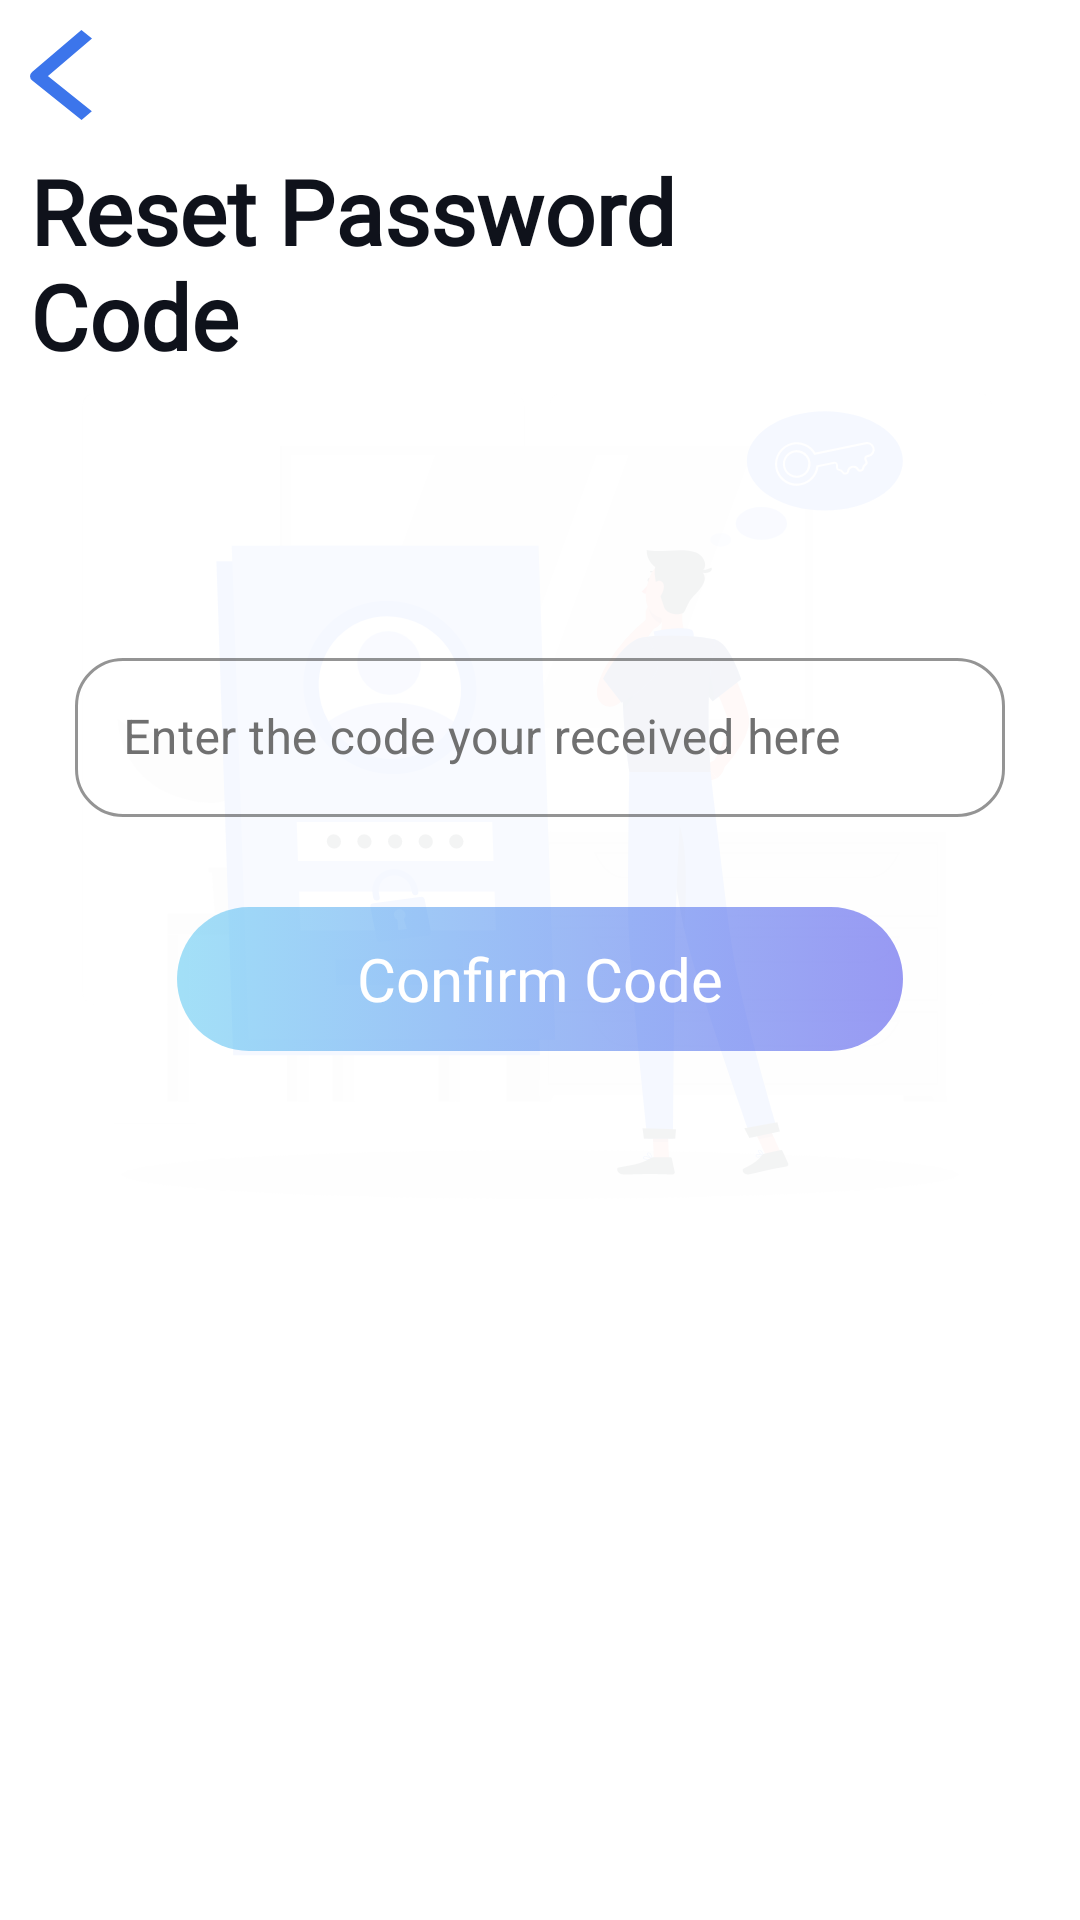

Locate icon controls on the screen. Image size 1080 x 1920, boxes as detection(x1, y1, x2, y2).
back: detection(30, 30, 92, 120)
